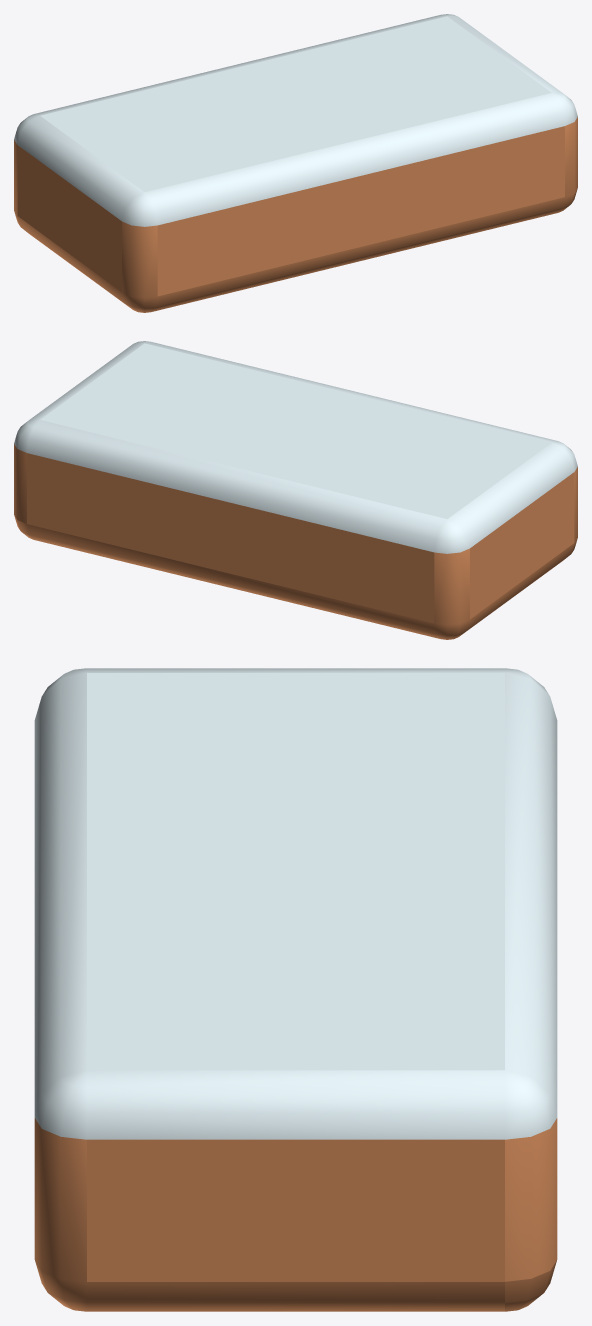
The model's file is blockSnowRoundedLowLong.fbx.
3 views of the same model, one above another, from view 1: azimuth 30°, elevation 25°; view 2: azimuth 150°, elevation 25°; view 3: azimuth 270°, elevation 25° (orthographic). The views are drawn at different scales.
Parts seen in each view (by area): view 1: blockSnowRoundedLowLong; view 2: blockSnowRoundedLowLong; view 3: blockSnowRoundedLowLong.
Part boxes in pixels (x1,y1,x2,y2): blockSnowRoundedLowLong: (14, 14, 577, 312); blockSnowRoundedLowLong: (14, 341, 577, 639); blockSnowRoundedLowLong: (34, 668, 557, 1311).
Bounding box in the file's own units: 20 × 5 × 10.
